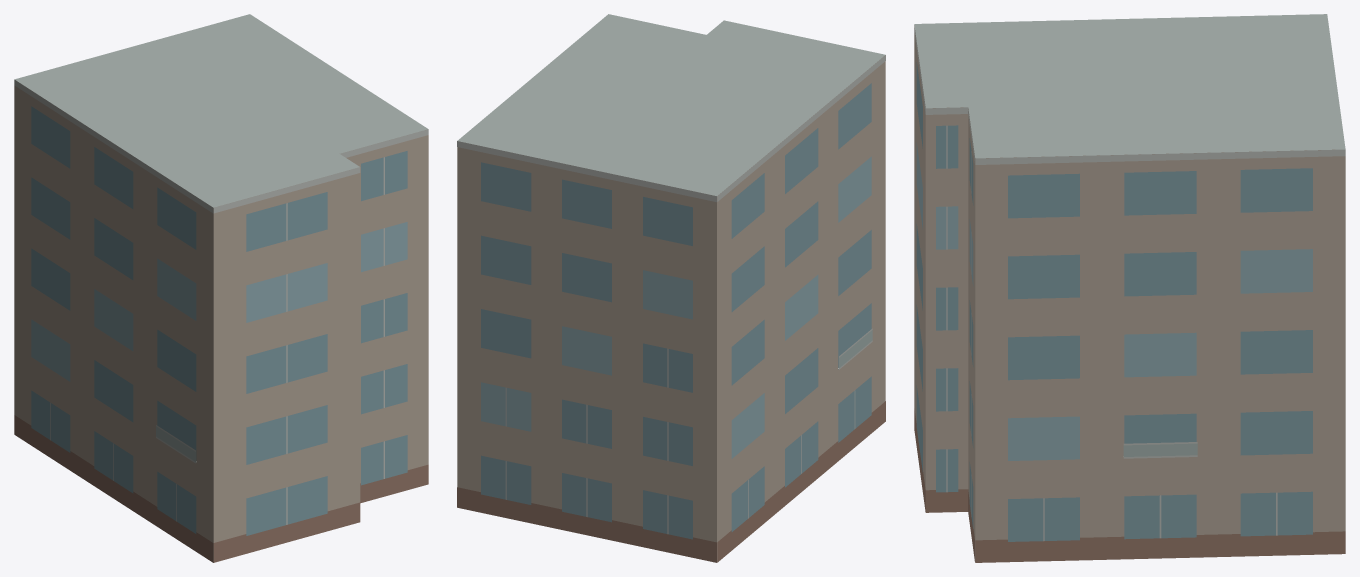
File: survey-upis-32610576.glb
3 renders of one model, left to right at view 1: azimuth 30°, elevation 25°; view 2: azimuth 150°, elevation 25°; view 3: azimuth 270°, elevation 25°, orthographic. The views are drawn at different scales.
Parts seen in each view (by area): view 1: survey-upis-32610576.tmp; view 2: survey-upis-32610576.tmp; view 3: survey-upis-32610576.tmp.
Part boxes in pixels (x1,y1,x2,y2): survey-upis-32610576.tmp: [14, 14, 428, 562]; survey-upis-32610576.tmp: [457, 14, 885, 562]; survey-upis-32610576.tmp: [914, 14, 1345, 562].
Size of the model in its own units: 11.28 by 14.72 by 14.24.
